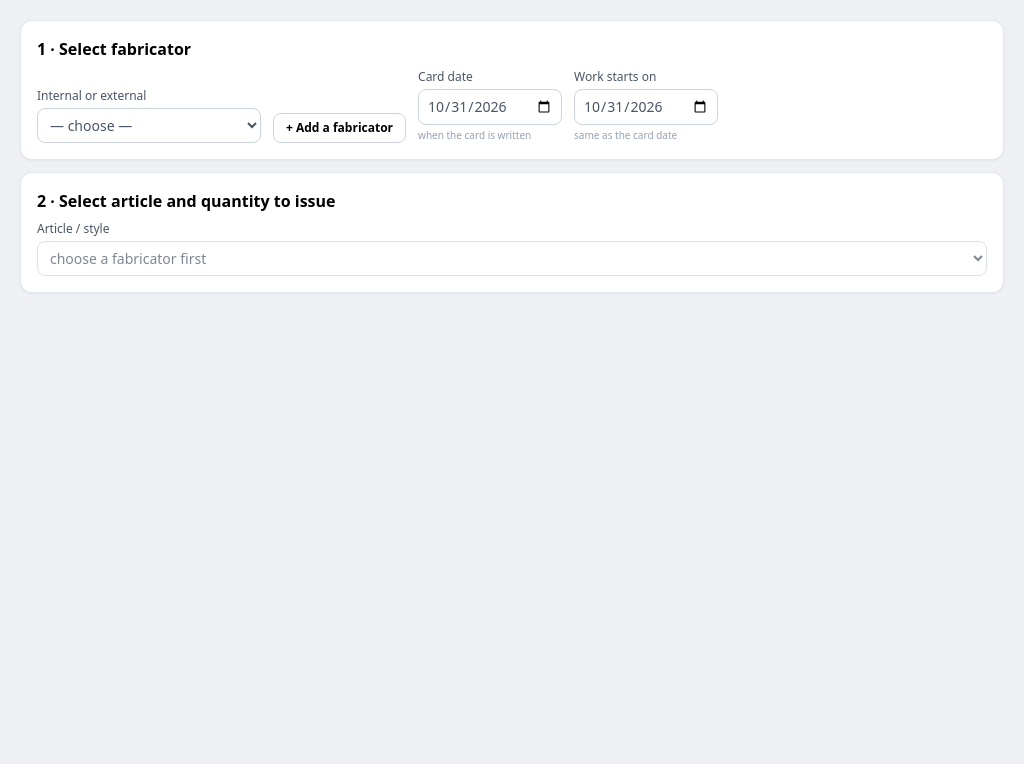
Test: a successful job order does not report itself as an error
Step 1. Select "Rex Internal (Internal)" in the dropdown named "Send to" → (149, 126), box [37,108,261,143]
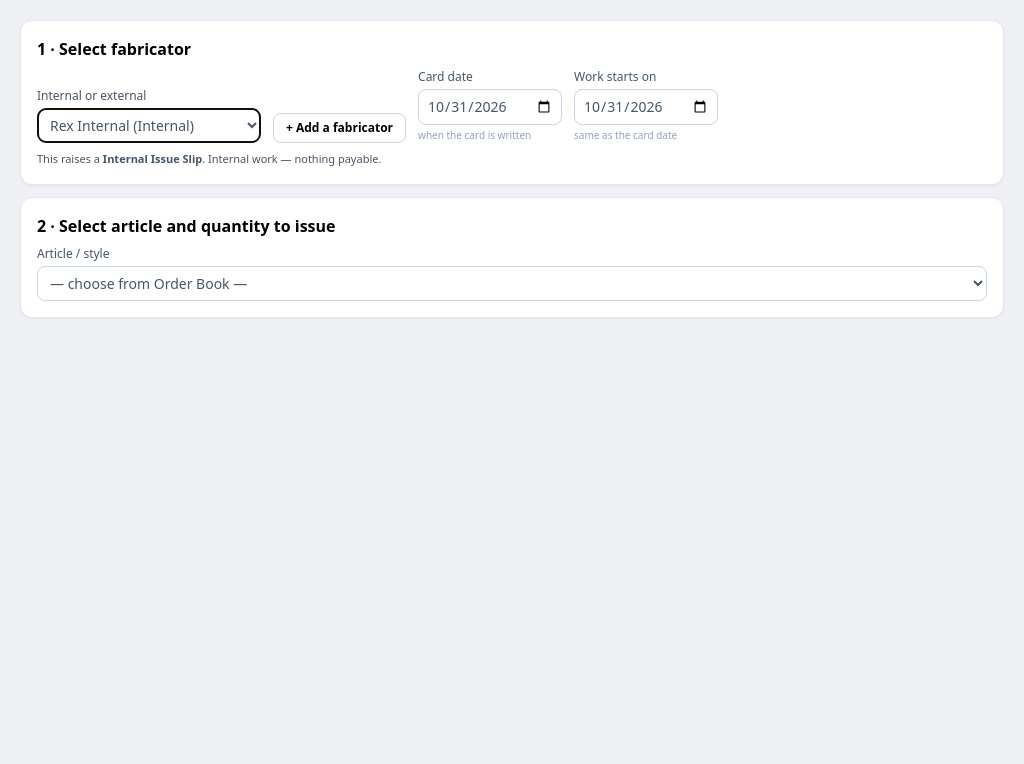
Step 2. Select "JO1 · SPIKE · Buyer · 1 Sept · 60 left" in the dropdown named "Current Order" → (512, 283), box [37,266,987,300]
(page scrolled)
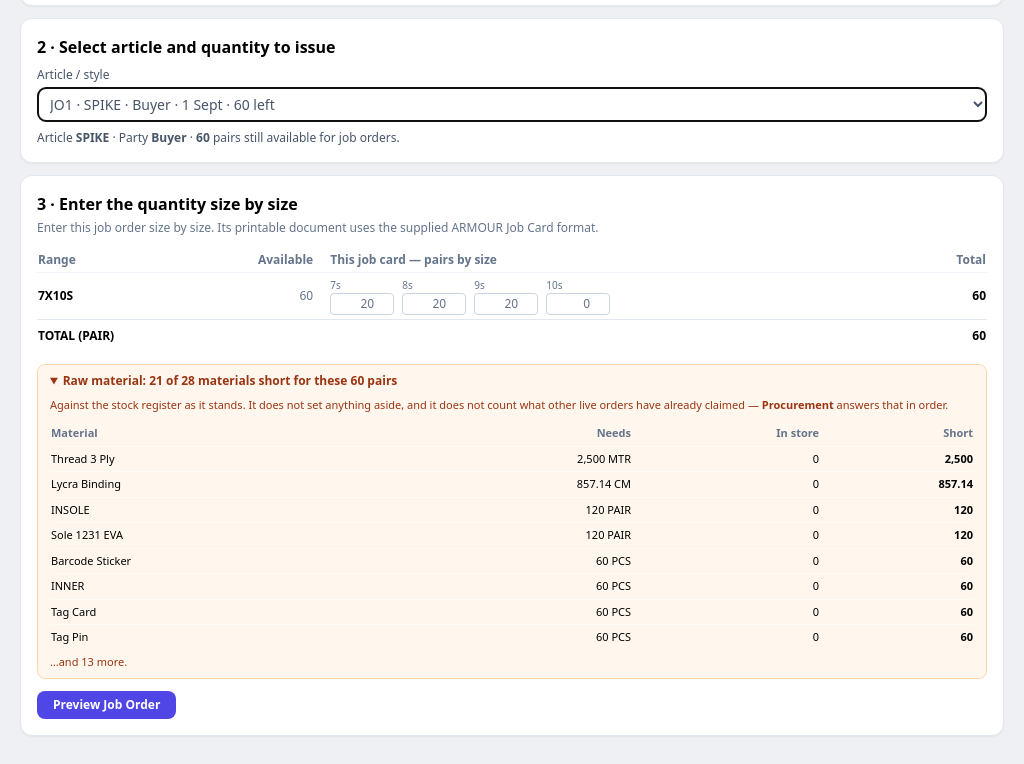
Step 3. Click the button "Preview Job Order" → (107, 705), box [37,691,176,719]
(page scrolled)
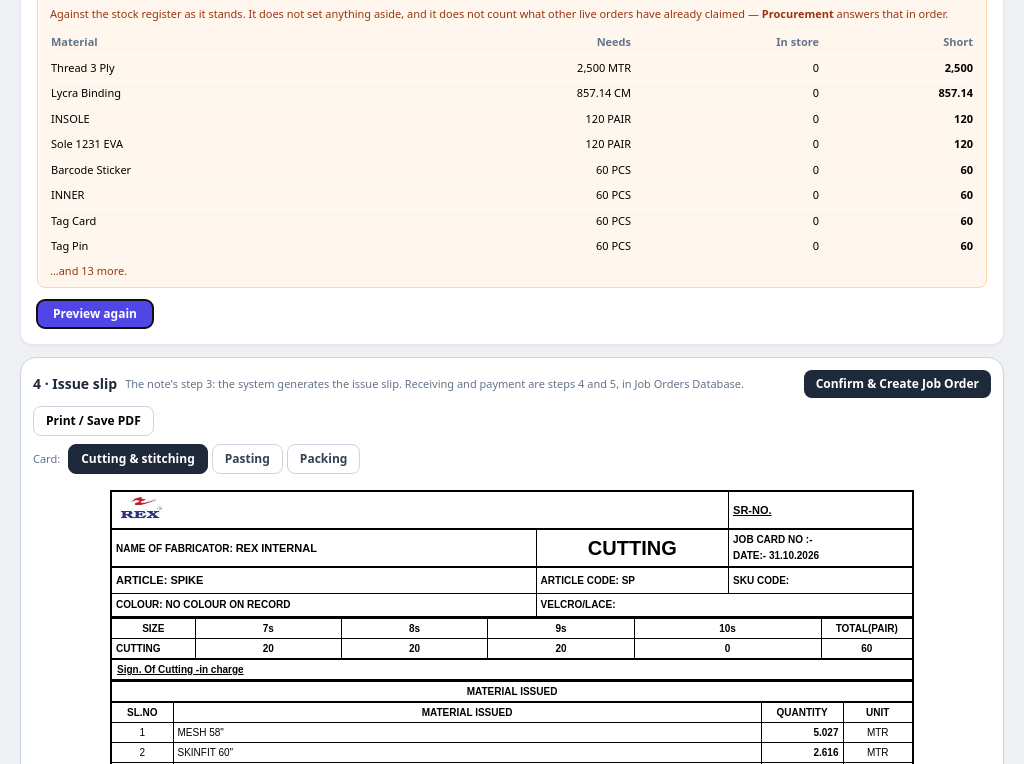
Step 4. Click the button "Confirm & Create Job Order" → (897, 384), box [804,370,991,398]
(page scrolled)
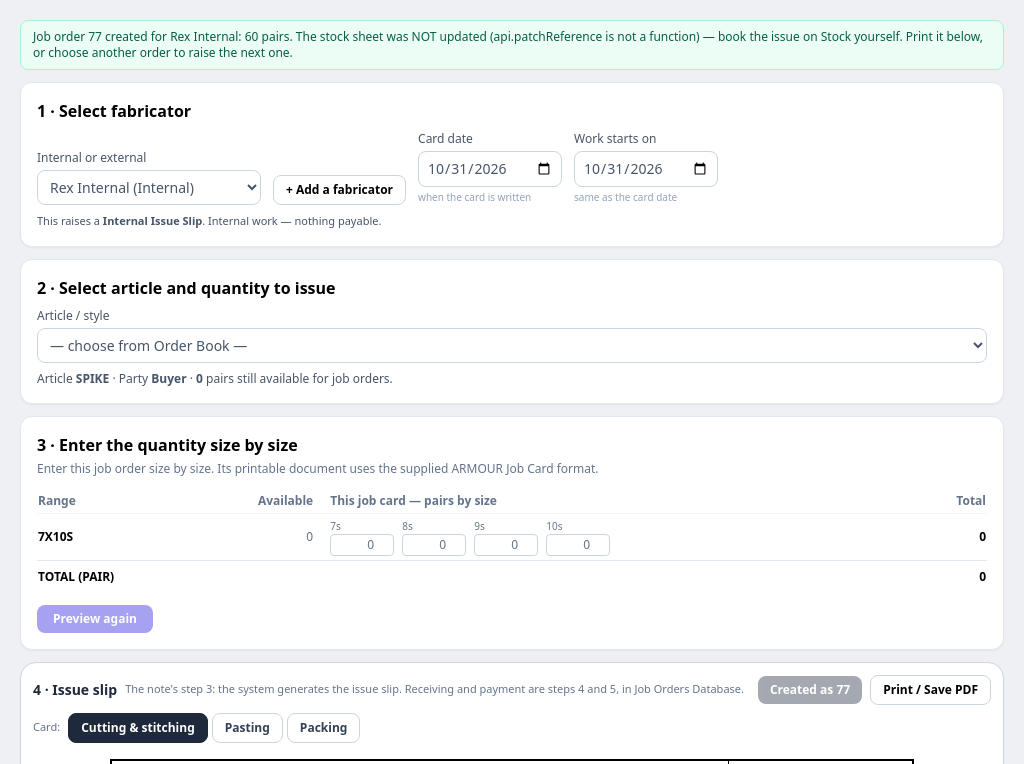
Expected: the text "Job order 77 created" is shown, [33,28,983,61]
